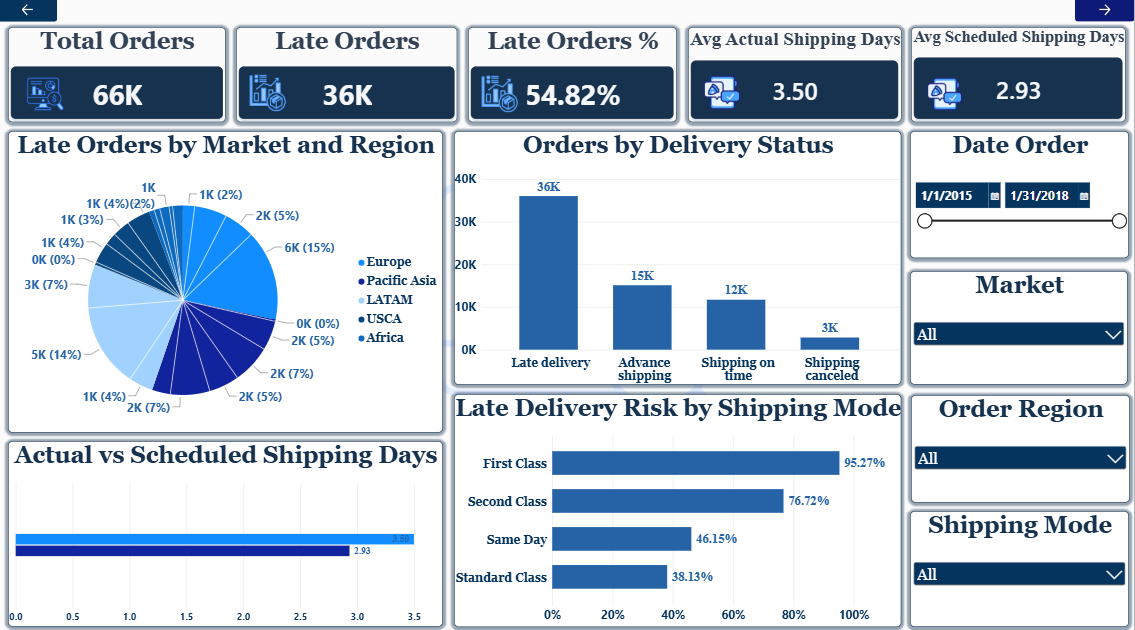

What the dashboard file says about the page in this screenshot:
{"tool":"powerbi","page":{"name":"Shipping&Delivery","canvas":[1920,1080],"ordinal":4},"visuals":[{"type":"clusteredColumnChart","title":"Orders by Delivery Status","fields":{"Category":["Data Co Supply Chain.Delivery_Status"],"Y":["Data Co Supply Chain.Total Orders"]},"box":[769.9,225,756.4,428.6],"z":0},{"type":"pieChart","title":"Late Orders by Market and Region","fields":{"Category":["Data Co Supply Chain.Market"],"Series":["Data Co Supply Chain.Order_Region"],"Y":["Data Co Supply Chain.Late Orders"]},"box":[17.5,225,735,510.1],"z":1000},{"type":"clusteredBarChart","title":"Actual vs Scheduled Shipping Days","fields":{"Y":["Data Co Supply Chain.Avg Actual Shipping Days","Data Co Supply Chain.Avg Scheduled Shipping Days"]},"box":[17.5,748.6,735,314.2],"z":2000},{"type":"clusteredBarChart","title":"Late Delivery Risk by Shipping Mode","fields":{"Category":["Data Co Supply Chain.Shipping_Mode"],"Y":["Data Co Supply Chain.Late Orders %"]},"box":[769.9,669.1,756.4,393.7],"z":3000},{"type":"cardVisual","title":"Avg Actual Shipping Days","fields":{"Data":["Data Co Supply Chain.Avg Actual Shipping Days"]},"box":[1165.6,48.5,360.7,161],"z":4000},{"type":"cardVisual","title":"Avg Scheduled Shipping Days","fields":{"Data":["Data Co Supply Chain.Avg Scheduled Shipping Days"]},"box":[1543.8,48.5,362.7,161],"z":5000},{"type":"cardVisual","title":"Late Orders %","fields":{"Data":["Data Co Supply Chain.Late Orders %"]},"box":[795.2,48.5,353,161],"z":6000},{"type":"cardVisual","title":"Total Orders","fields":{"Data":["Data Co Supply Chain.Total Orders"]},"box":[17.5,48.5,368.5,161],"z":7000},{"type":"cardVisual","title":"Late Orders","fields":{"Data":["Data Co Supply Chain.Late Orders"]},"box":[401.5,48.5,374.3,161],"z":8000},{"type":"slicer","title":"Market","fields":{"Values":["Data Co Supply Chain.Market"]},"box":[1541.8,461.6,368.5,192],"z":9000},{"type":"slicer","title":"Order Region","fields":{"Values":["Order_Region.Order_Region"]},"box":[1543.8,671,370.4,182.3],"z":10000},{"type":"slicer","title":"Shipping Mode","fields":{"Values":["Data Co Supply Chain.Shipping_Mode"]},"box":[1541.8,866.9,370.4,195.9],"z":11000},{"type":"slicer","title":"Date Order","fields":{"Values":["Data Co Supply Chain.Date_Orders"]},"box":[1541.8,225,370.4,215.3],"z":12000},{"type":"image","box":[17.5,129.9,125.6,63.8],"z":13000},{"type":"image","box":[1181.1,126.1,83.9,66.3],"z":14000},{"type":"image","box":[401.5,128,106.8,63.6],"z":15000},{"type":"image","box":[795.2,129.9,106.8,63.6],"z":16000},{"type":"image","box":[1563.2,129.9,72.7,63.6],"z":17000},{"type":"actionButton","box":[0,0,100,40],"z":18000},{"type":"actionButton","box":[1819.9,0,100,40],"z":19000}]}

Visuals, with their boxes in screenshot pixels (x1, y1, x2, y2), scaled from the page's 1920x1080 canvas onto the 1135x630 screenshot:
"Orders by Delivery Status" clusteredColumnChart: <region>455, 131, 902, 381</region>
"Late Orders by Market and Region" pieChart: <region>10, 131, 445, 429</region>
"Actual vs Scheduled Shipping Days" clusteredBarChart: <region>10, 437, 445, 620</region>
"Late Delivery Risk by Shipping Mode" clusteredBarChart: <region>455, 390, 902, 620</region>
"Avg Actual Shipping Days" cardVisual: <region>689, 28, 902, 122</region>
"Avg Scheduled Shipping Days" cardVisual: <region>913, 28, 1127, 122</region>
"Late Orders %" cardVisual: <region>470, 28, 679, 122</region>
"Total Orders" cardVisual: <region>10, 28, 228, 122</region>
"Late Orders" cardVisual: <region>237, 28, 459, 122</region>
"Market" slicer: <region>911, 269, 1129, 381</region>
"Order Region" slicer: <region>913, 391, 1132, 498</region>
"Shipping Mode" slicer: <region>911, 506, 1130, 620</region>
"Date Order" slicer: <region>911, 131, 1130, 257</region>
image: <region>10, 76, 85, 113</region>
image: <region>698, 74, 748, 112</region>
image: <region>237, 75, 300, 112</region>
image: <region>470, 76, 533, 113</region>
image: <region>924, 76, 967, 113</region>
actionButton: <region>0, 0, 59, 23</region>
actionButton: <region>1076, 0, 1134, 23</region>
